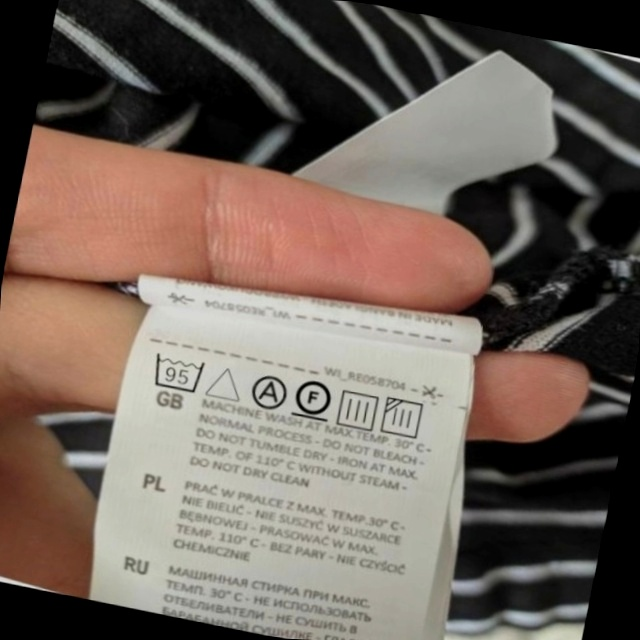95C: (148, 349, 210, 397)
bleach: (205, 359, 246, 406)
drip_dry: (333, 385, 383, 434)
drip_dry_in_shade: (379, 393, 430, 444)
dry_clean: (246, 370, 290, 413)
dry_clean_petrol_only: (291, 373, 337, 424)
